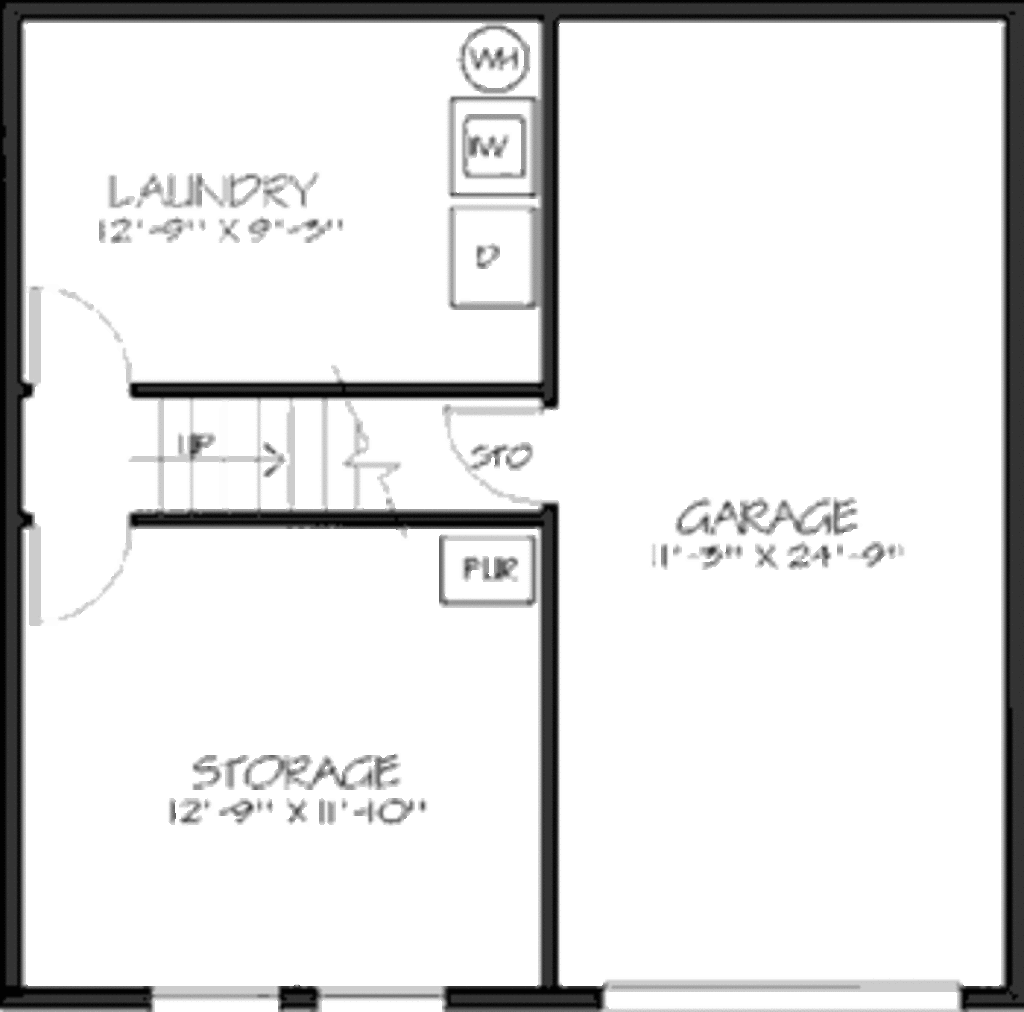door: (22, 268, 132, 387), (440, 402, 559, 508), (11, 528, 135, 628)
stairs: (128, 393, 443, 521)
window: (148, 984, 286, 1011)
